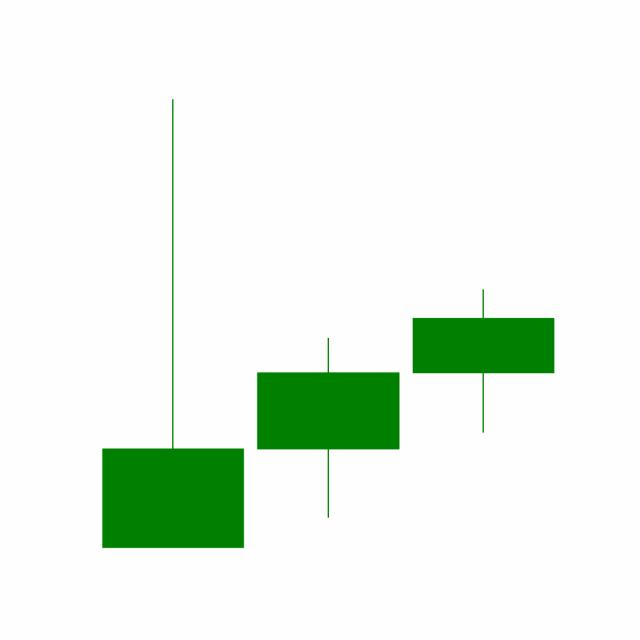Hanging Man: (405, 288, 561, 434)
